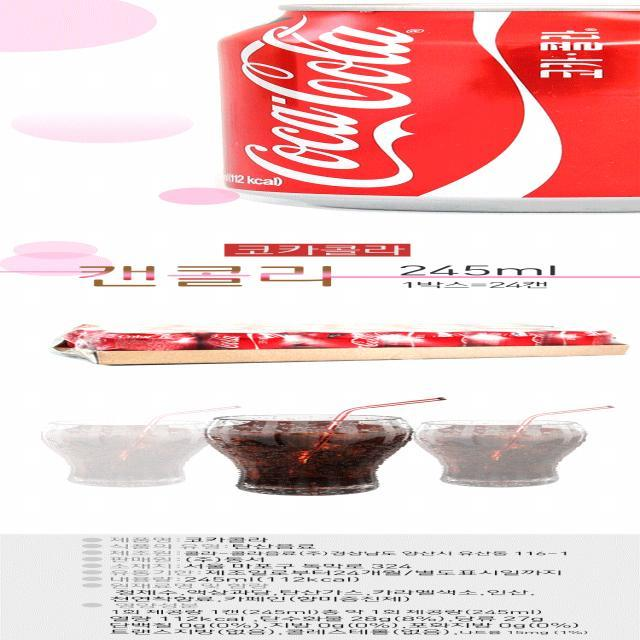coca-cola: (206, 0, 638, 214)
